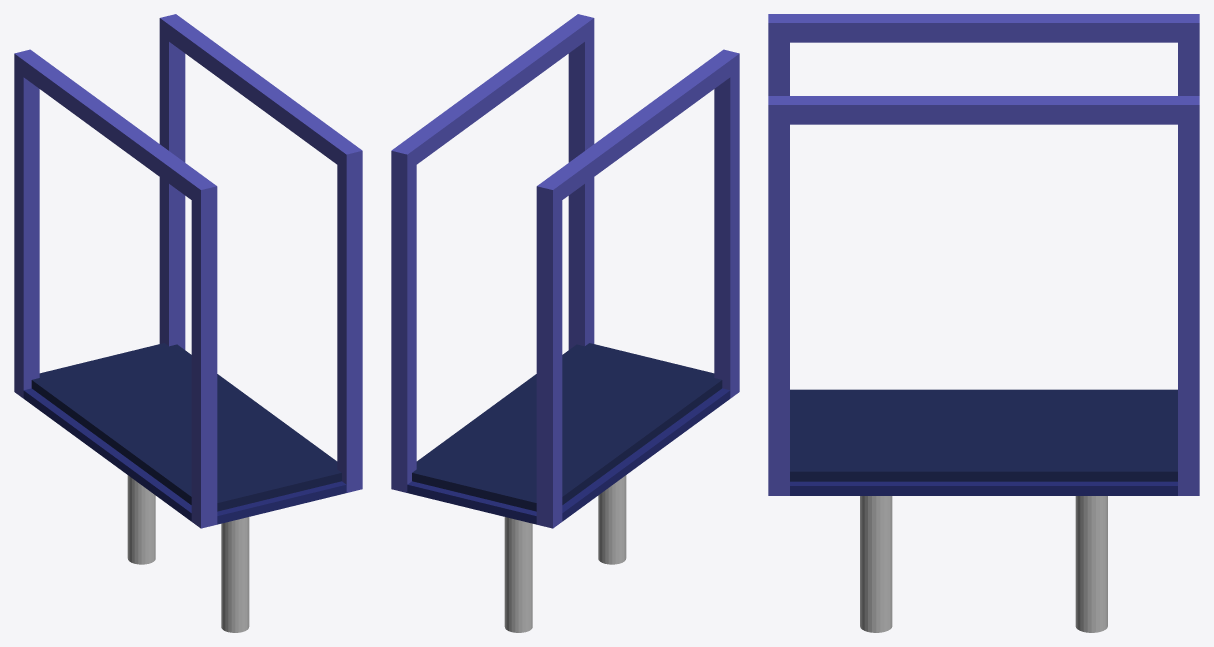
The model's file is Elevator2m.fbx.
3 views of the same model, side by side, from view 1: azimuth 30°, elevation 25°; view 2: azimuth 150°, elevation 25°; view 3: azimuth 270°, elevation 25° (orthographic). The views are drawn at different scales.
Parts seen in each view (by area): view 1: Elevator2m, Platform, Platform.001, Platform.002; view 2: Elevator2m, Platform, Platform.002, Platform.001; view 3: Elevator2m, Platform, Platform.002, Platform.001.
Boxes of the visible parts, bbox=[...] form: Elevator2m: bbox=[14, 14, 362, 528]; Platform: bbox=[31, 343, 341, 511]; Platform.001: bbox=[221, 517, 249, 632]; Platform.002: bbox=[127, 475, 155, 564]; Elevator2m: bbox=[391, 14, 739, 528]; Platform: bbox=[412, 343, 722, 511]; Platform.002: bbox=[504, 517, 532, 632]; Platform.001: bbox=[598, 475, 626, 564]; Elevator2m: bbox=[768, 14, 1199, 495]; Platform: bbox=[790, 389, 1177, 481]; Platform.002: bbox=[1075, 496, 1107, 632]; Platform.001: bbox=[860, 496, 892, 632].
Bounding box in the file's own units: 2 × 5.8 × 4.
